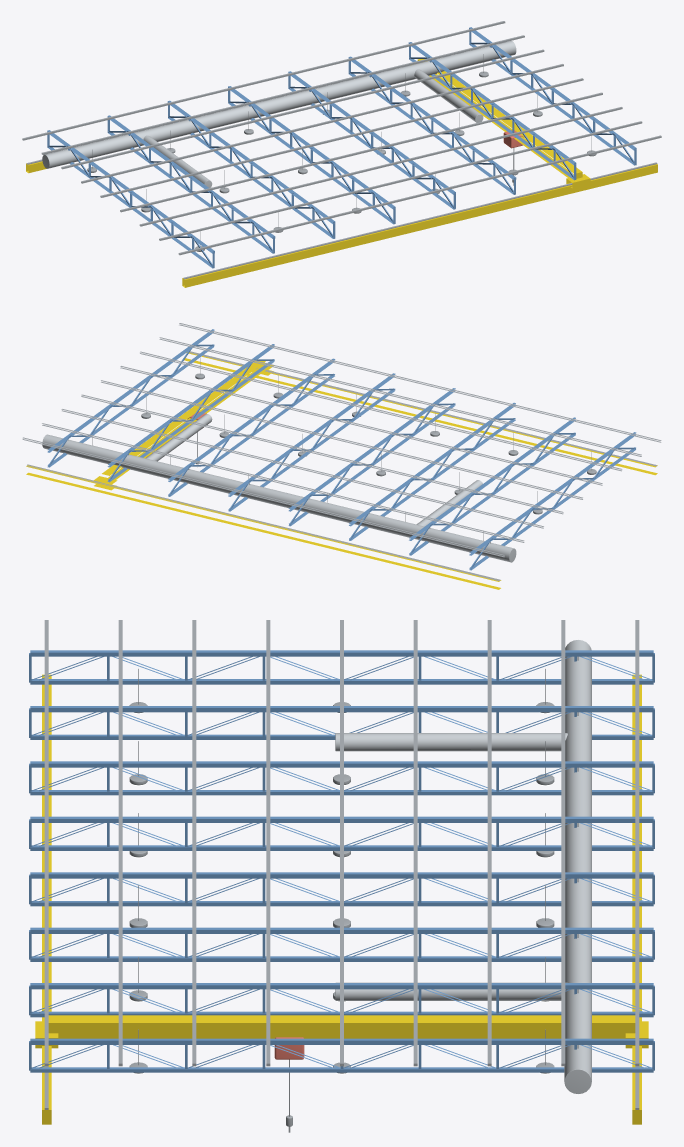
Rendered from nave_techo.glb.
3 renders of one model, top to bottom at view 1: azimuth 30°, elevation 25°; view 2: azimuth 150°, elevation 25°; view 3: azimuth 270°, elevation 25°, orthographic. The views are drawn at different scales.
Parts seen in each view (by area): view 1: estructura_gris, estructura, chapa_techo, amarillo_seg; view 2: estructura_gris, estructura, chapa_techo, amarillo_seg; view 3: estructura, estructura_gris, amarillo_seg, chapa_techo.
Part boxes in pixels (left/top/right/bottom): estructura_gris: left=22, top=21, right=661, bottom=279; estructura: left=47, top=27, right=636, bottom=268; chapa_techo: left=42, top=41, right=516, bottom=187; amarillo_seg: left=26, top=59, right=657, bottom=287; estructura_gris: left=22, top=323, right=661, bottom=581; estructura: left=47, top=329, right=636, bottom=570; chapa_techo: left=42, top=414, right=516, bottom=562; amarillo_seg: left=26, top=352, right=657, bottom=589; estructura: left=29, top=650, right=654, bottom=1072; estructura_gris: left=44, top=620, right=639, bottom=1132; amarillo_seg: left=35, top=674, right=648, bottom=1124; chapa_techo: left=335, top=640, right=591, bottom=1093.
Bounding box in the file's own units: 32 × 4.92 × 20.
